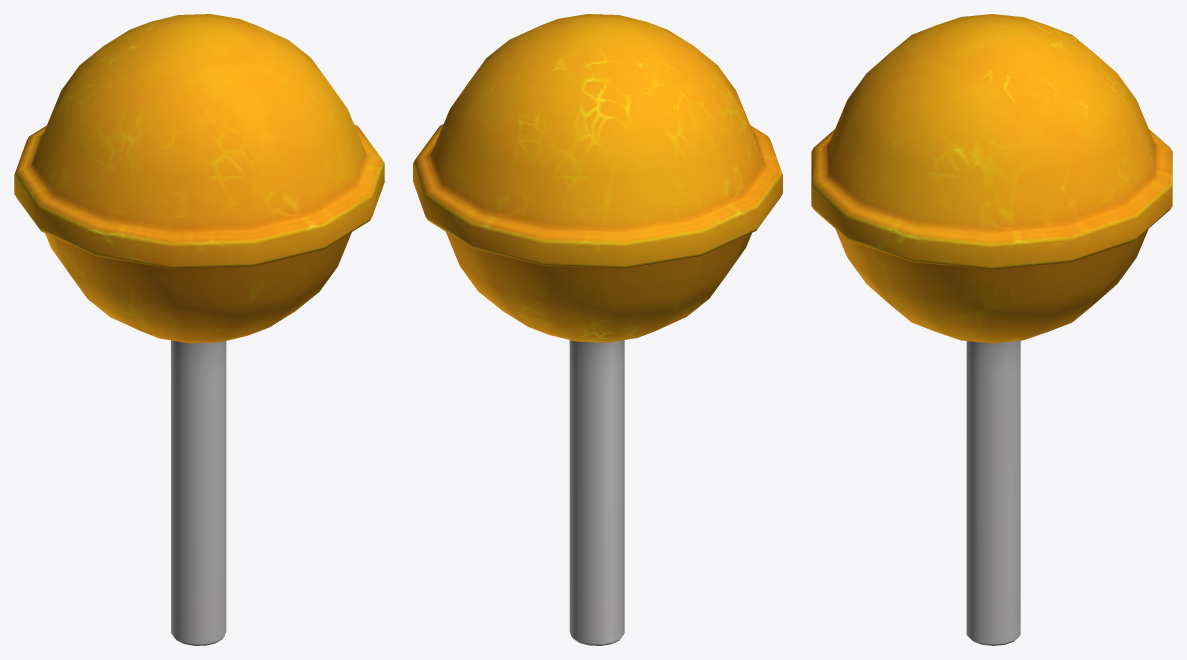
The model's file is lollipop.fbx.
The picture shows the model from 3 angles, left to right: view 1: azimuth 30°, elevation 25°; view 2: azimuth 150°, elevation 25°; view 3: azimuth 270°, elevation 25°; orthographic projection.
Visible parts, largest first — view 1: lollipop; view 2: lollipop; view 3: lollipop.
Boxes of the visible parts, box(x1,y1,x2,y2) form: lollipop: box(14, 14, 384, 645); lollipop: box(413, 14, 782, 645); lollipop: box(811, 14, 1172, 645).
Size of the model in its own units: 42.42 by 76.62 by 41.35.
